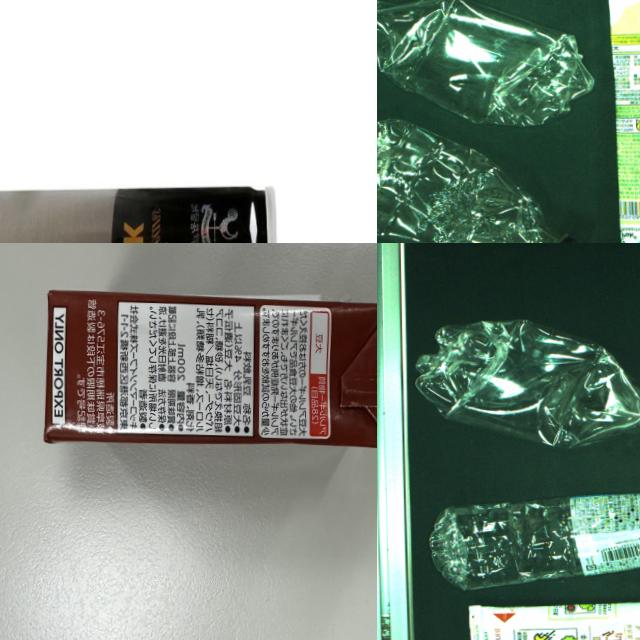Aluminium Foil: (39, 283, 377, 456), (462, 597, 640, 640)
Transparent Plastic Bottle: (418, 319, 640, 452), (377, 0, 596, 130), (377, 119, 590, 243), (426, 494, 640, 591)
